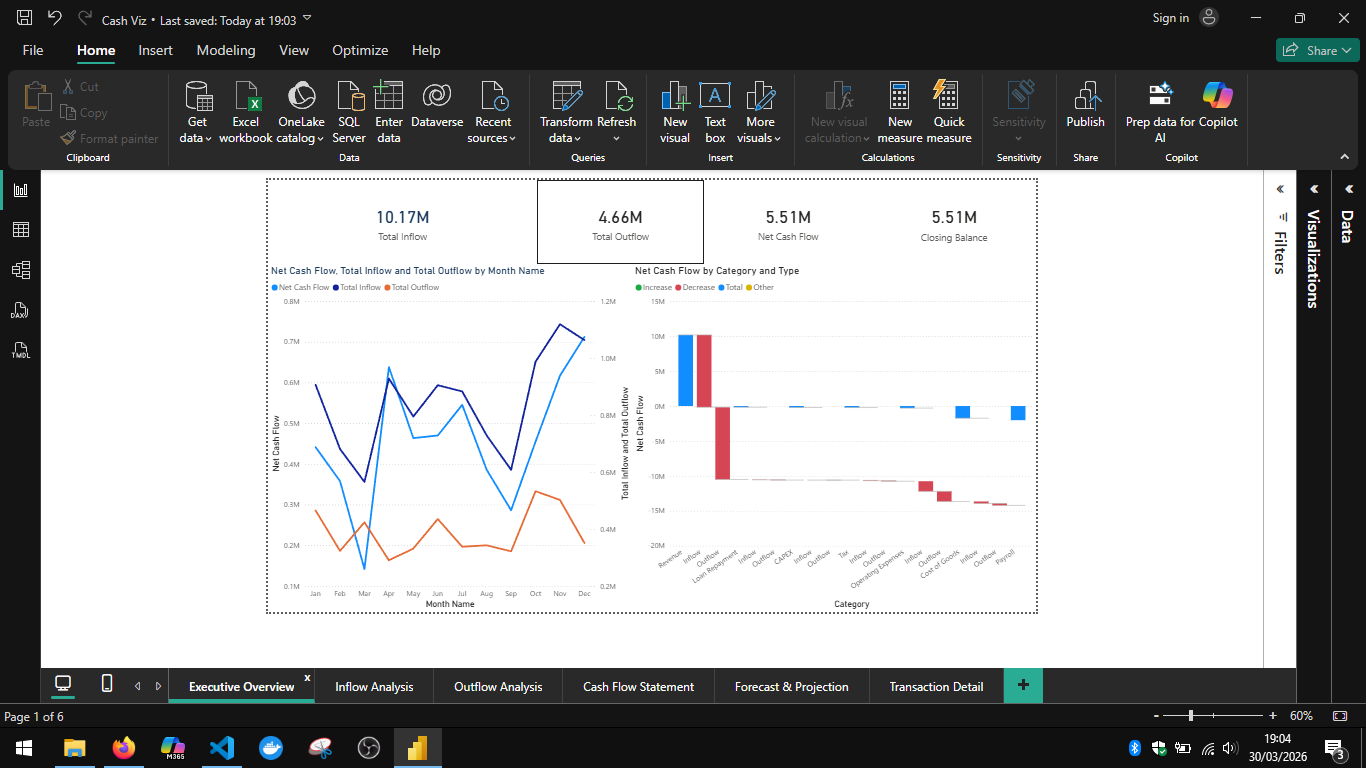

This screenshot's page, from the dashboard's own definition file:
{"tool":"powerbi","page":{"name":"Executive Overview","canvas":[1280,720],"ordinal":0},"visuals":[{"type":"card","fields":{"Values":["MeasuresTable.Total Inflow"]},"box":[0,0,448.3,140],"z":0},{"type":"card","fields":{"Values":["MeasuresTable.Total Outflow"]},"box":[448.3,0,278.3,140],"z":1},{"type":"card","fields":{"Values":["MeasuresTable.Net Cash Flow"]},"box":[726.7,0,280,140],"z":2},{"type":"card","fields":{"Values":["MeasuresTable.Closing Balance"]},"box":[1006.7,1.7,273.3,138.3],"z":3},{"type":"lineChart","fields":{"Category":["DimDate.Month Name"],"Y":["MeasuresTable.Net Cash Flow"],"Y2":["MeasuresTable.Total Inflow","MeasuresTable.Total Outflow"]},"box":[0,140,606.7,580],"z":4},{"type":"waterfallChart","fields":{"Category":["DimCategory.Category"],"Breakdown":["transactions_sample.Type"],"Y":["MeasuresTable.Net Cash Flow"]},"box":[606.7,140,673.3,580],"z":5}]}

Visuals, with their boxes on the page's 1280x720 design canvas (x1, y1, x2, y2). These are canvas units, not pixel positions in the 1366x768 screenshot, which may show the page scaled, cropped or inside an application window:
card - MeasuresTable.Total Inflow: <region>0, 0, 448, 140</region>
card - MeasuresTable.Total Outflow: <region>448, 0, 727, 140</region>
card - MeasuresTable.Net Cash Flow: <region>727, 0, 1007, 140</region>
card - MeasuresTable.Closing Balance: <region>1007, 2, 1280, 140</region>
lineChart - DimDate.Month Name x MeasuresTable.Net Cash Flow: <region>0, 140, 607, 720</region>
waterfallChart - DimCategory.Category x transactions_sample.Type: <region>607, 140, 1280, 720</region>
